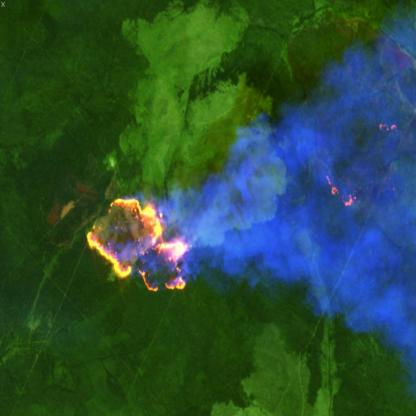fire: (84, 190, 198, 296), (321, 172, 360, 209), (375, 118, 400, 140)
